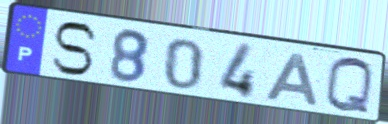0: (162, 37, 208, 91)
4: (217, 41, 260, 102)
8: (107, 27, 151, 85)
A: (262, 51, 320, 108)
Q: (322, 55, 376, 117)
S: (48, 20, 100, 78)
